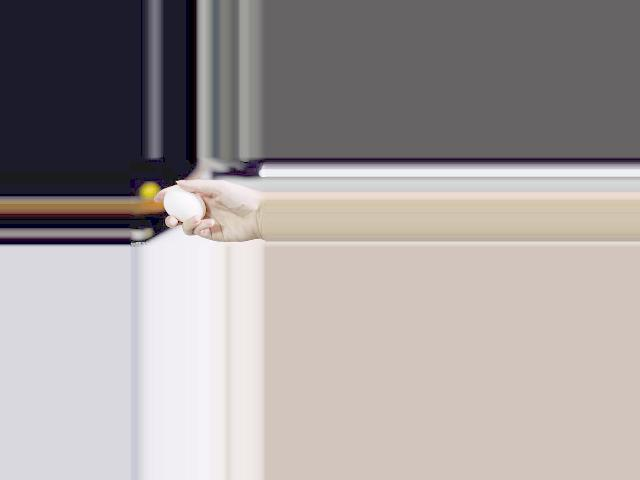egg: (162, 187, 204, 222)
